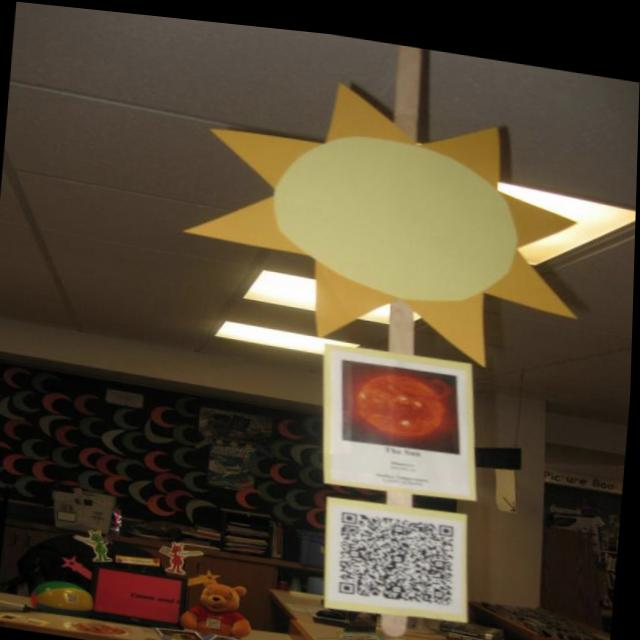qrcode: (340, 503, 462, 601)
